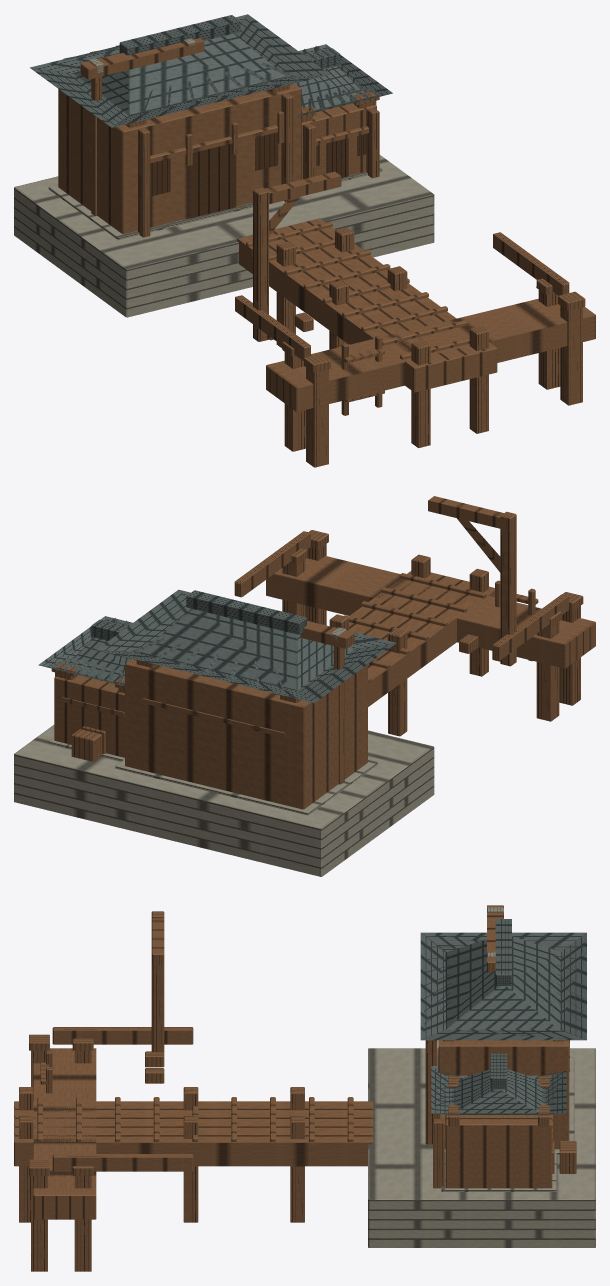
The model's file is port-lod0.glb.
3 renders of one model, top to bottom at view 1: azimuth 30°, elevation 25°; view 2: azimuth 150°, elevation 25°; view 3: azimuth 270°, elevation 25°, orthographic.
Bounding box in the file's own units: 0.74 × 0.551 × 1.2.
Materials: 1 (1 with a texture image).
